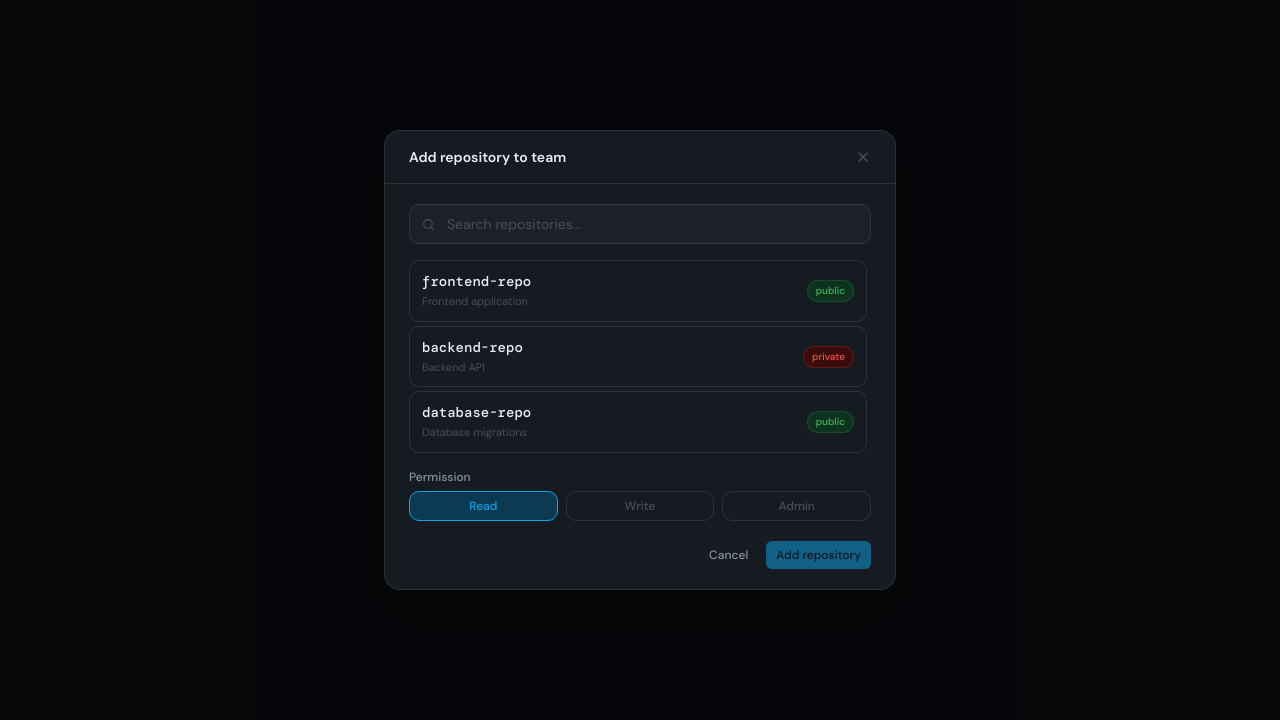
Test: AddTeamRepositoryModal › enables submit button when repository is selected
Click the button "frontend-repo" at x=477, y=281, box [409, 260, 867, 322]
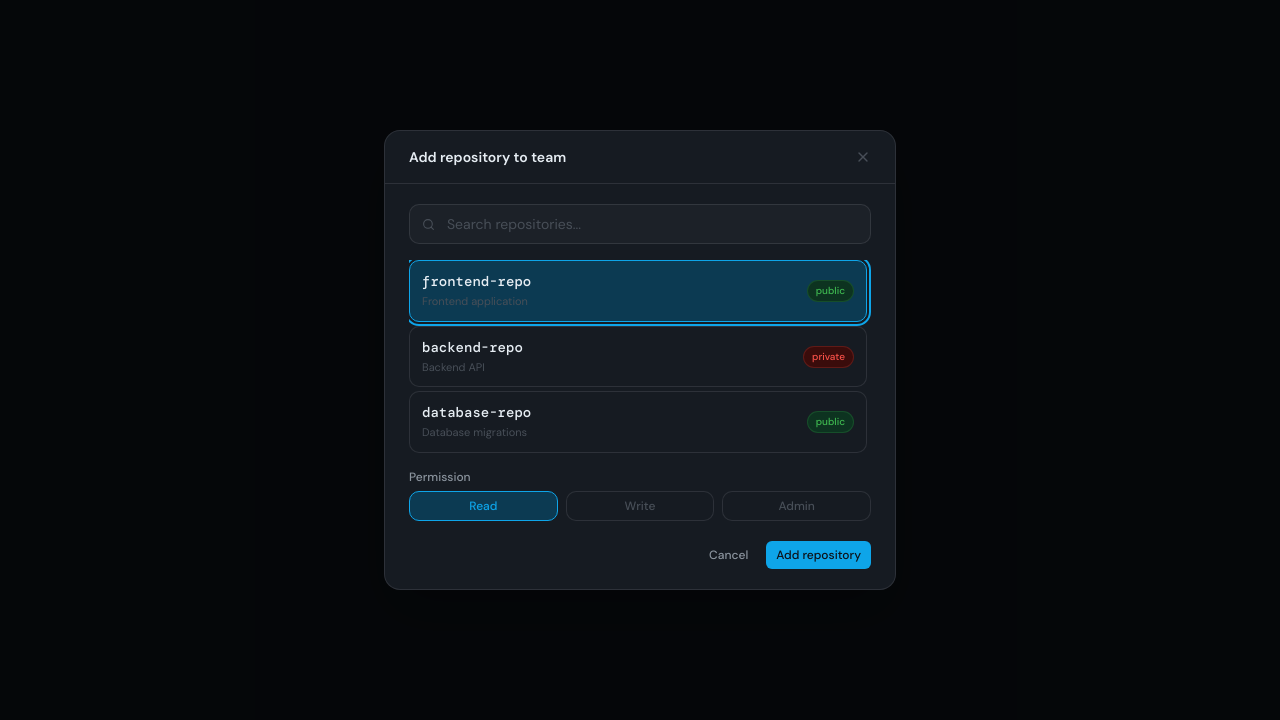
expect the button "Add repository" is enabled: met, box [766, 541, 871, 569]
